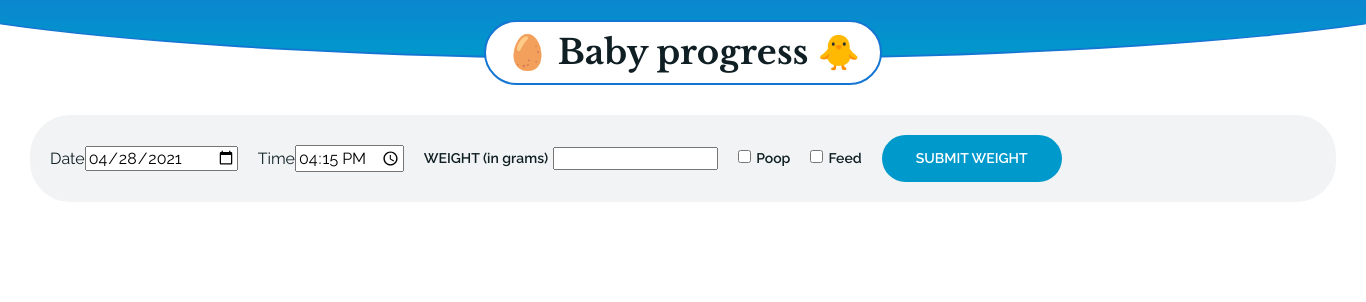
it: Page › adds a specific date to new line
This screenshot has width=1366, height=302.
Type "2021-03-22" into the date field labelled "Date".
click(161, 158); type("2021-03-22")  # box [85,146,238,171]
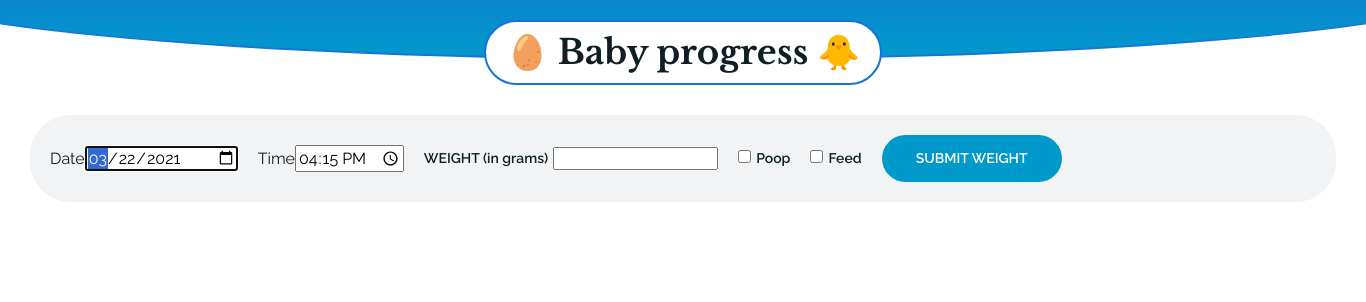
Type "2100" into the number field.
click(636, 158); type("2100")  # box [553,147,718,170]
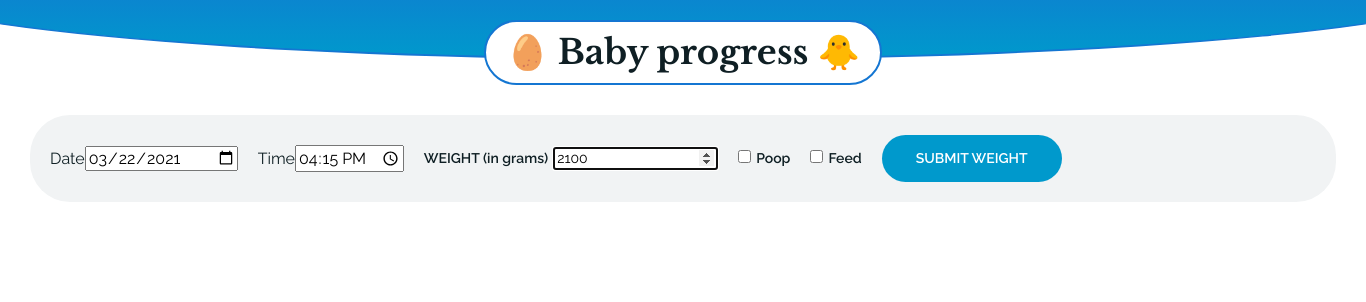
Click the button "Submit weight".
click(972, 158)  # box [882,135,1062,182]
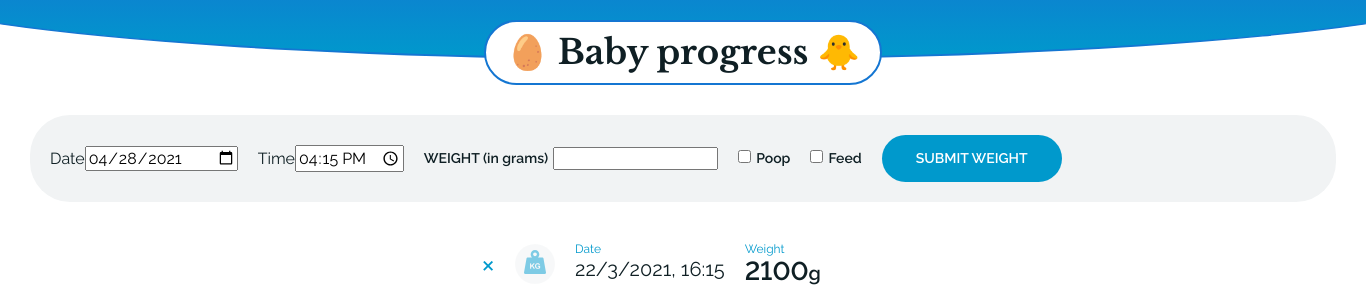
Now the text "22/3/2021, 16:15" is shown, box [575,256,725,282]
